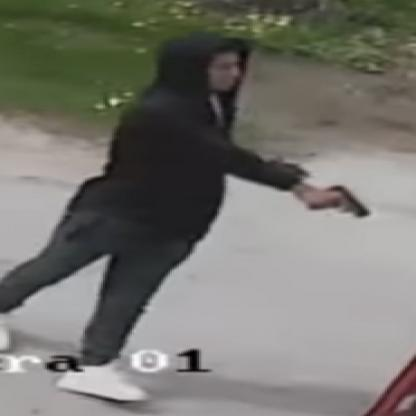criminal: (0, 30, 374, 403)
weapon: (307, 182, 373, 219)
